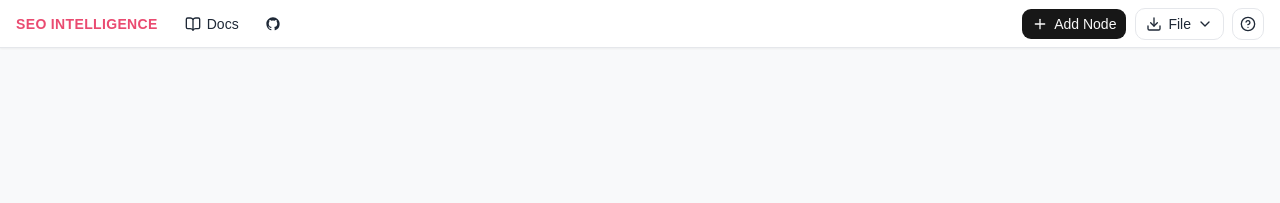
Scenario: Toolbar File dropdown — export & import › test 2 — clicking File reveals Import JSON, Export JSON and Copy for AI menu items
The image size is (1280, 203).
Click the button "File": [1180, 24] box [1135, 8, 1224, 40]
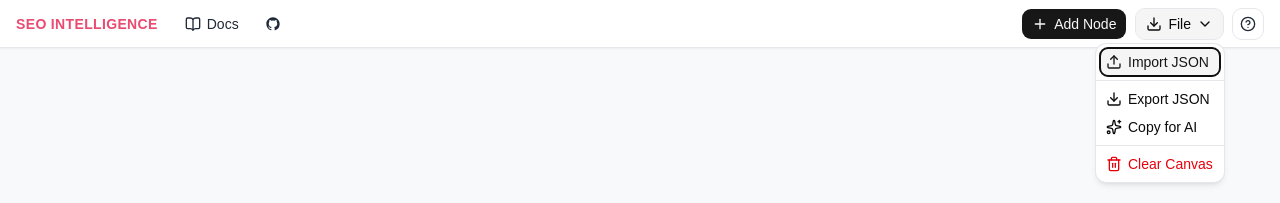
Result: the menu item "Import JSON" is shown at [1100, 48, 1220, 76]
Result: the menu item "Export JSON" is shown at [1106, 91, 1210, 107]
Result: the menu item "Copy for AI" is shown at [1106, 119, 1197, 135]
